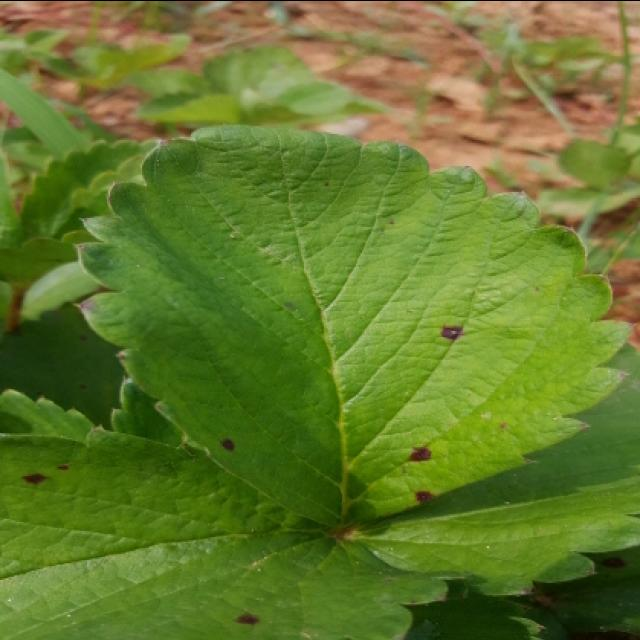Leaf Spot: (75, 121, 633, 530), (0, 429, 449, 638), (0, 301, 128, 431)
